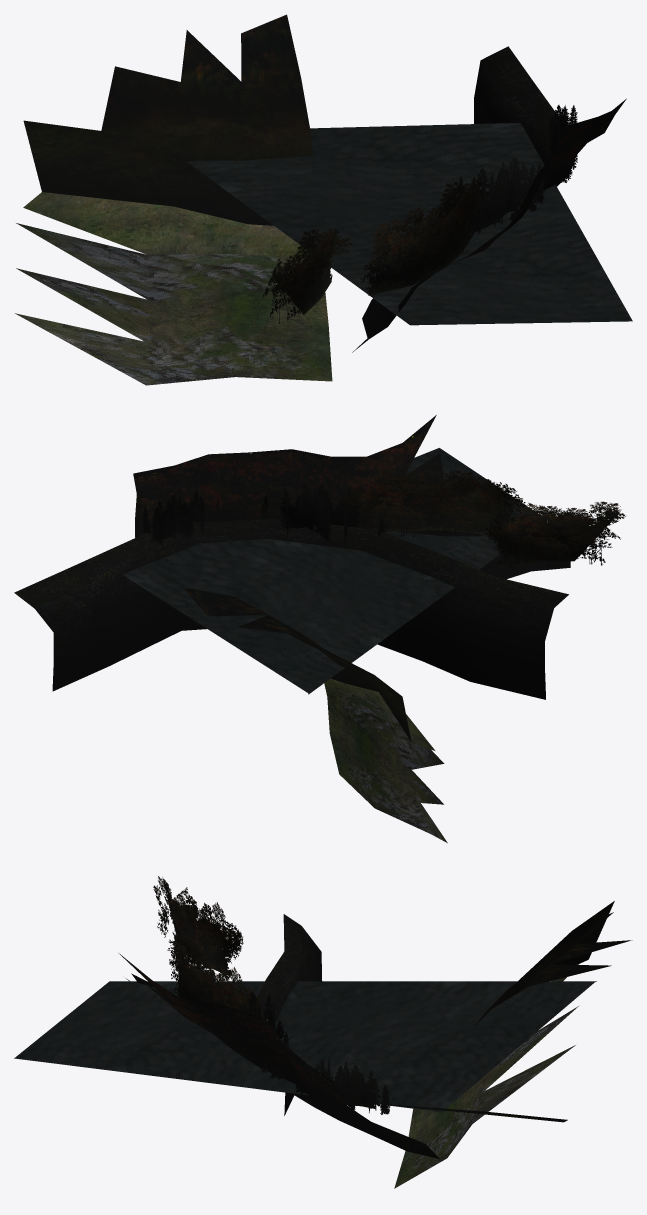
The model's file is cell_11_-15.gltf.
The picture shows the model from 3 angles, top to bottom: view 1: azimuth 30°, elevation 25°; view 2: azimuth 150°, elevation 25°; view 3: azimuth 270°, elevation 25°; orthographic projection. The views are drawn at different scales.
Parts seen in each view (by area): view 1: cell_11_-15; view 2: cell_11_-15; view 3: cell_11_-15.
Boxes of the visible parts, x1=… form: cell_11_-15: x1=15, y1=14, x2=632, y2=385; cell_11_-15: x1=14, y1=415, x2=625, y2=843; cell_11_-15: x1=14, y1=876, x2=632, y2=1188.
Bounding box in the file's own units: 295 × 161 × 351.
12 materials, 12 textured.
